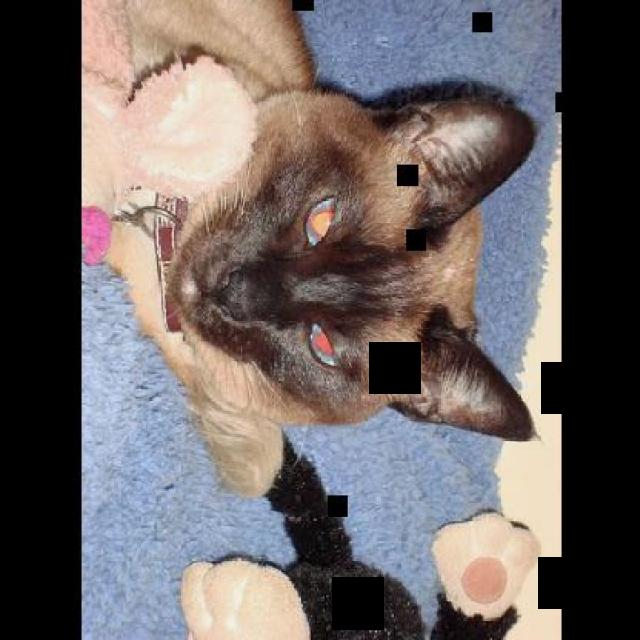unauthorized: (81, 0, 542, 502)
